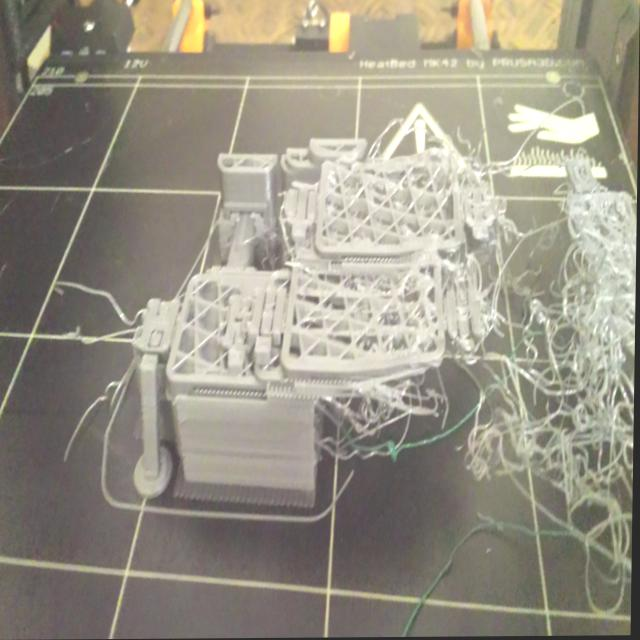spaghetti: (429, 77, 639, 612)
